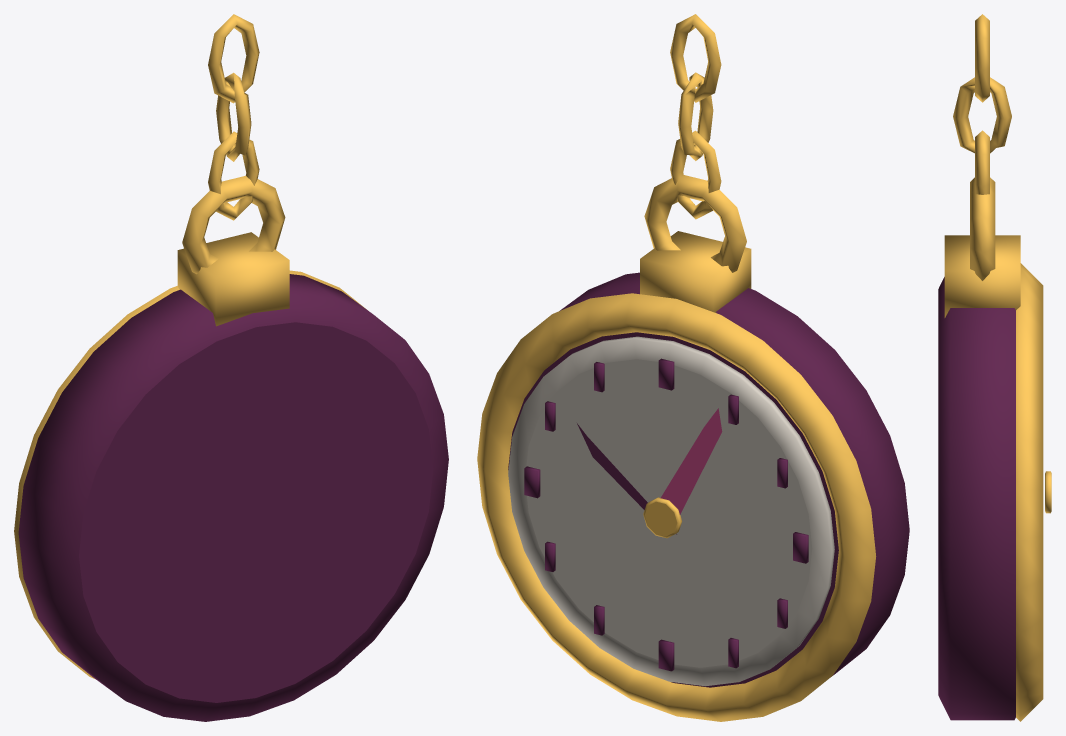
Rendered from toy-pendulum-lod0.glb.
3 views of the same model, side by side, from view 1: azimuth 30°, elevation 25°; view 2: azimuth 150°, elevation 25°; view 3: azimuth 270°, elevation 25° (orthographic).
Visible parts, largest first — view 1: toy_pendulum; view 2: toy_pendulum; view 3: toy_pendulum.
Part boxes in pixels (x1,y1,x2,y2): toy_pendulum: (14, 14, 448, 721); toy_pendulum: (477, 14, 909, 721); toy_pendulum: (938, 14, 1051, 721).
Bounding box in the file's own units: 0.544 × 0.897 × 0.1345.
